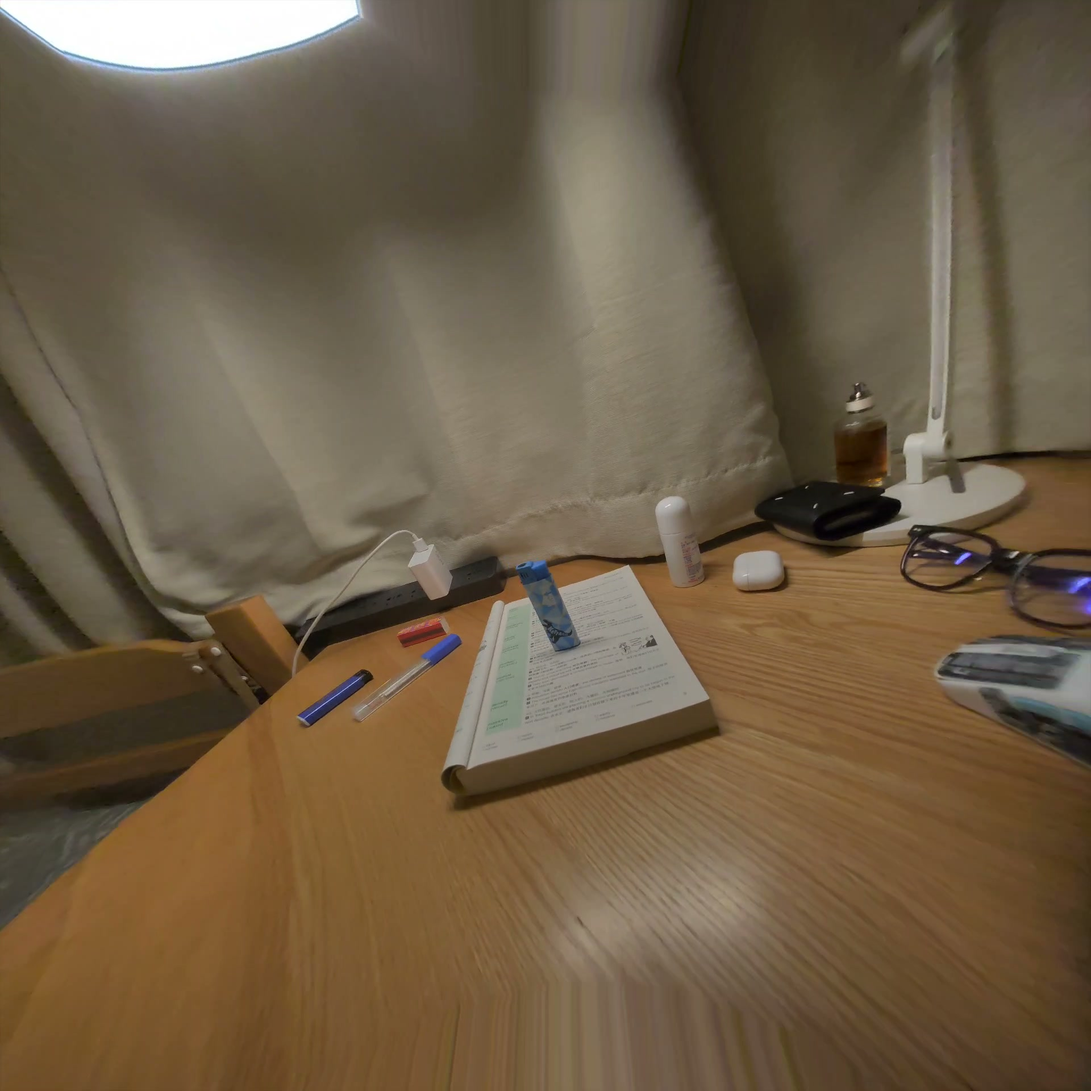lighter: (516, 561, 580, 651)
